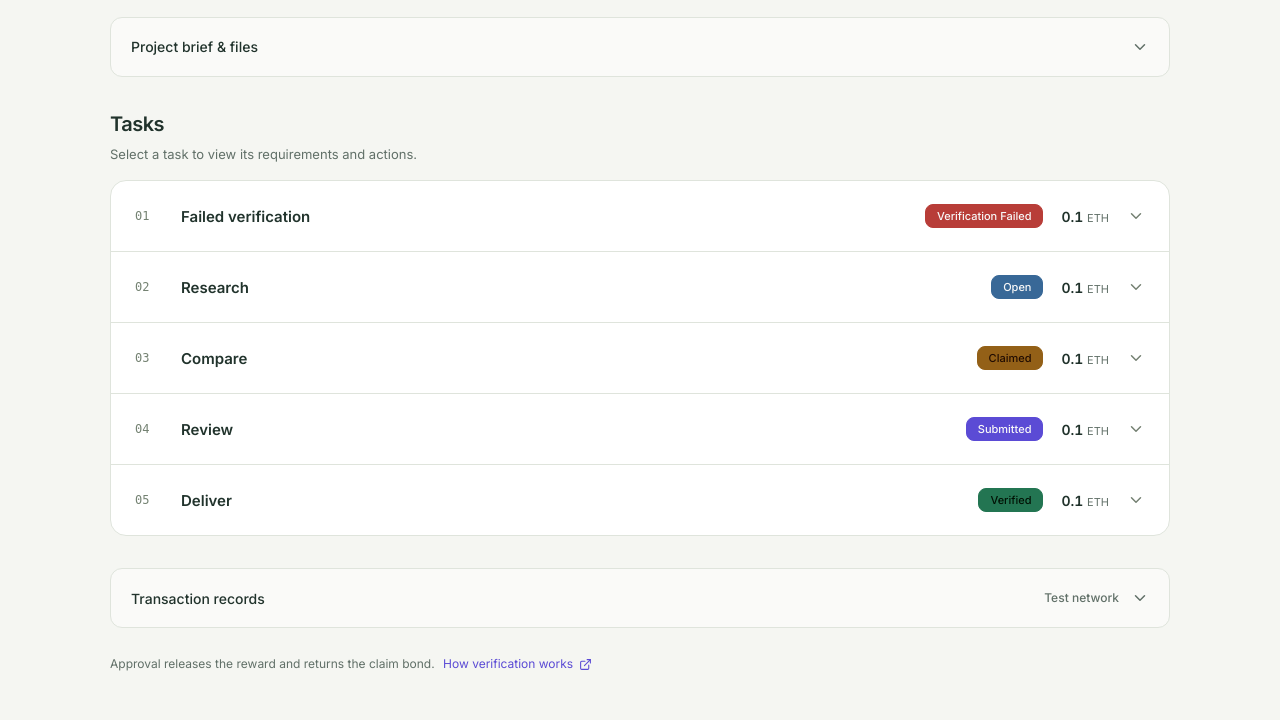
Worker verification appeals › does not offer a dispute on a successfully paid subtask
(page scrolled)
Step 1. Click the button "05 Deliver Verified 0.1 ETH" → coordinates (206, 500), box [111,465,1169,535]
(page scrolled)
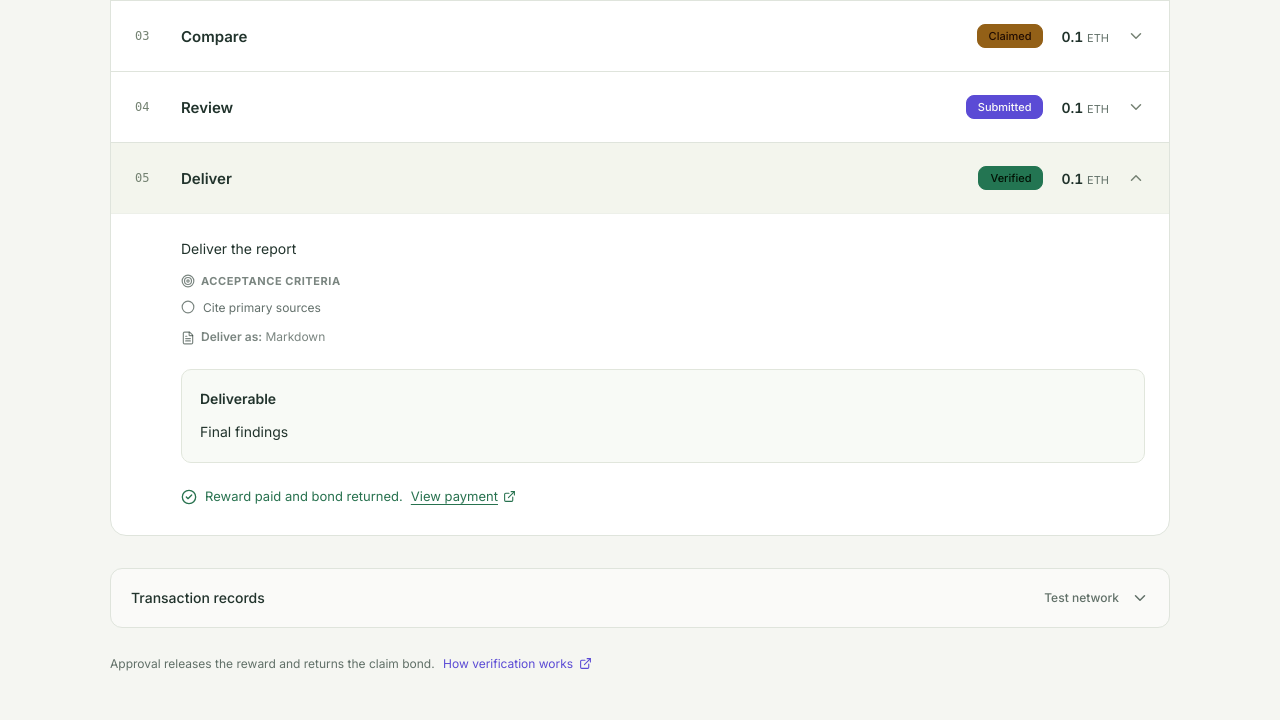
Now the text "Reward paid and bond returned. View payment" is shown, box [181,488,516,505]
